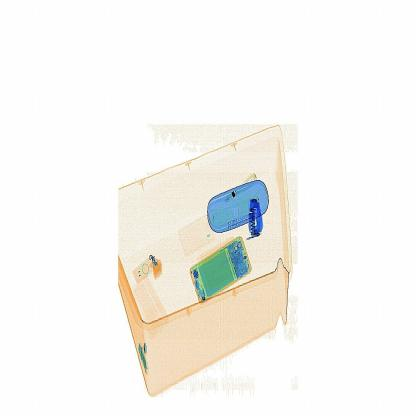scissors: (240, 189, 272, 242)
